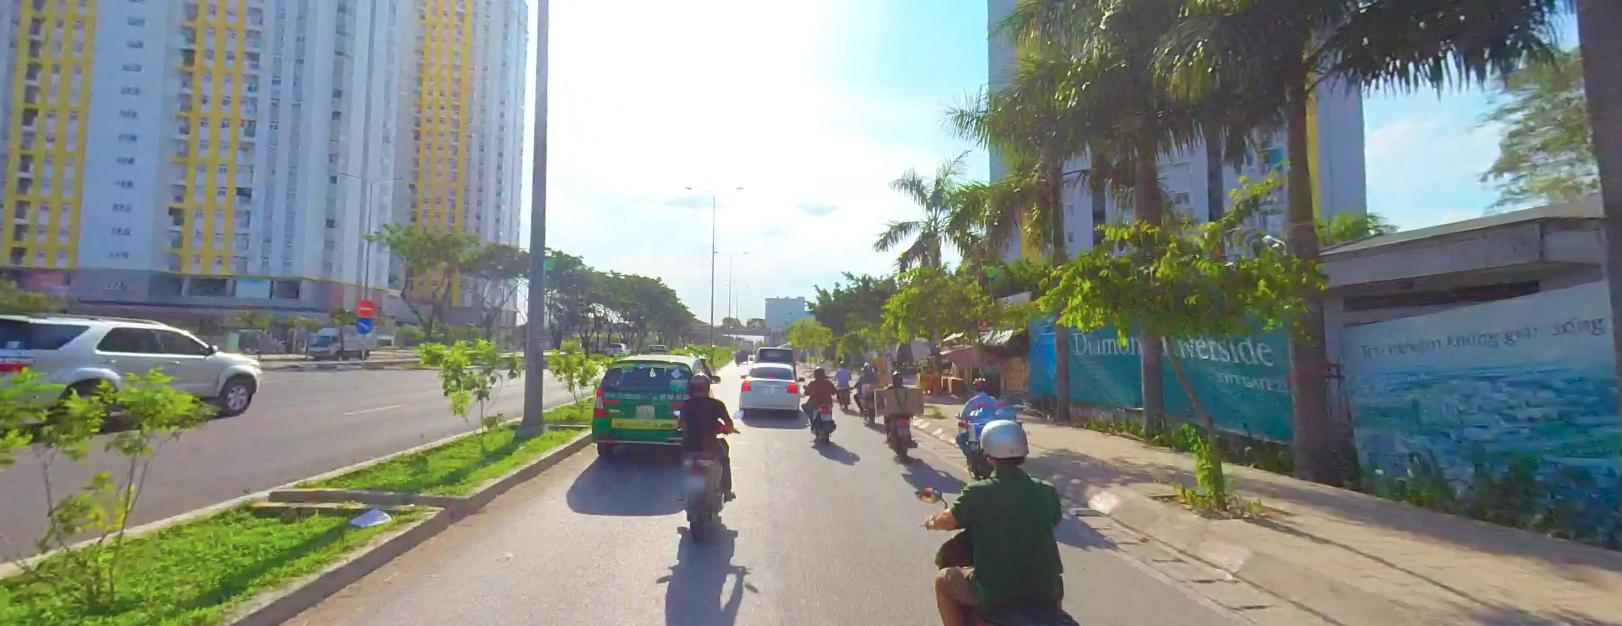Cam nguoc chieu: (356, 298, 372, 314)
Hieu lenh: (354, 318, 372, 332)
